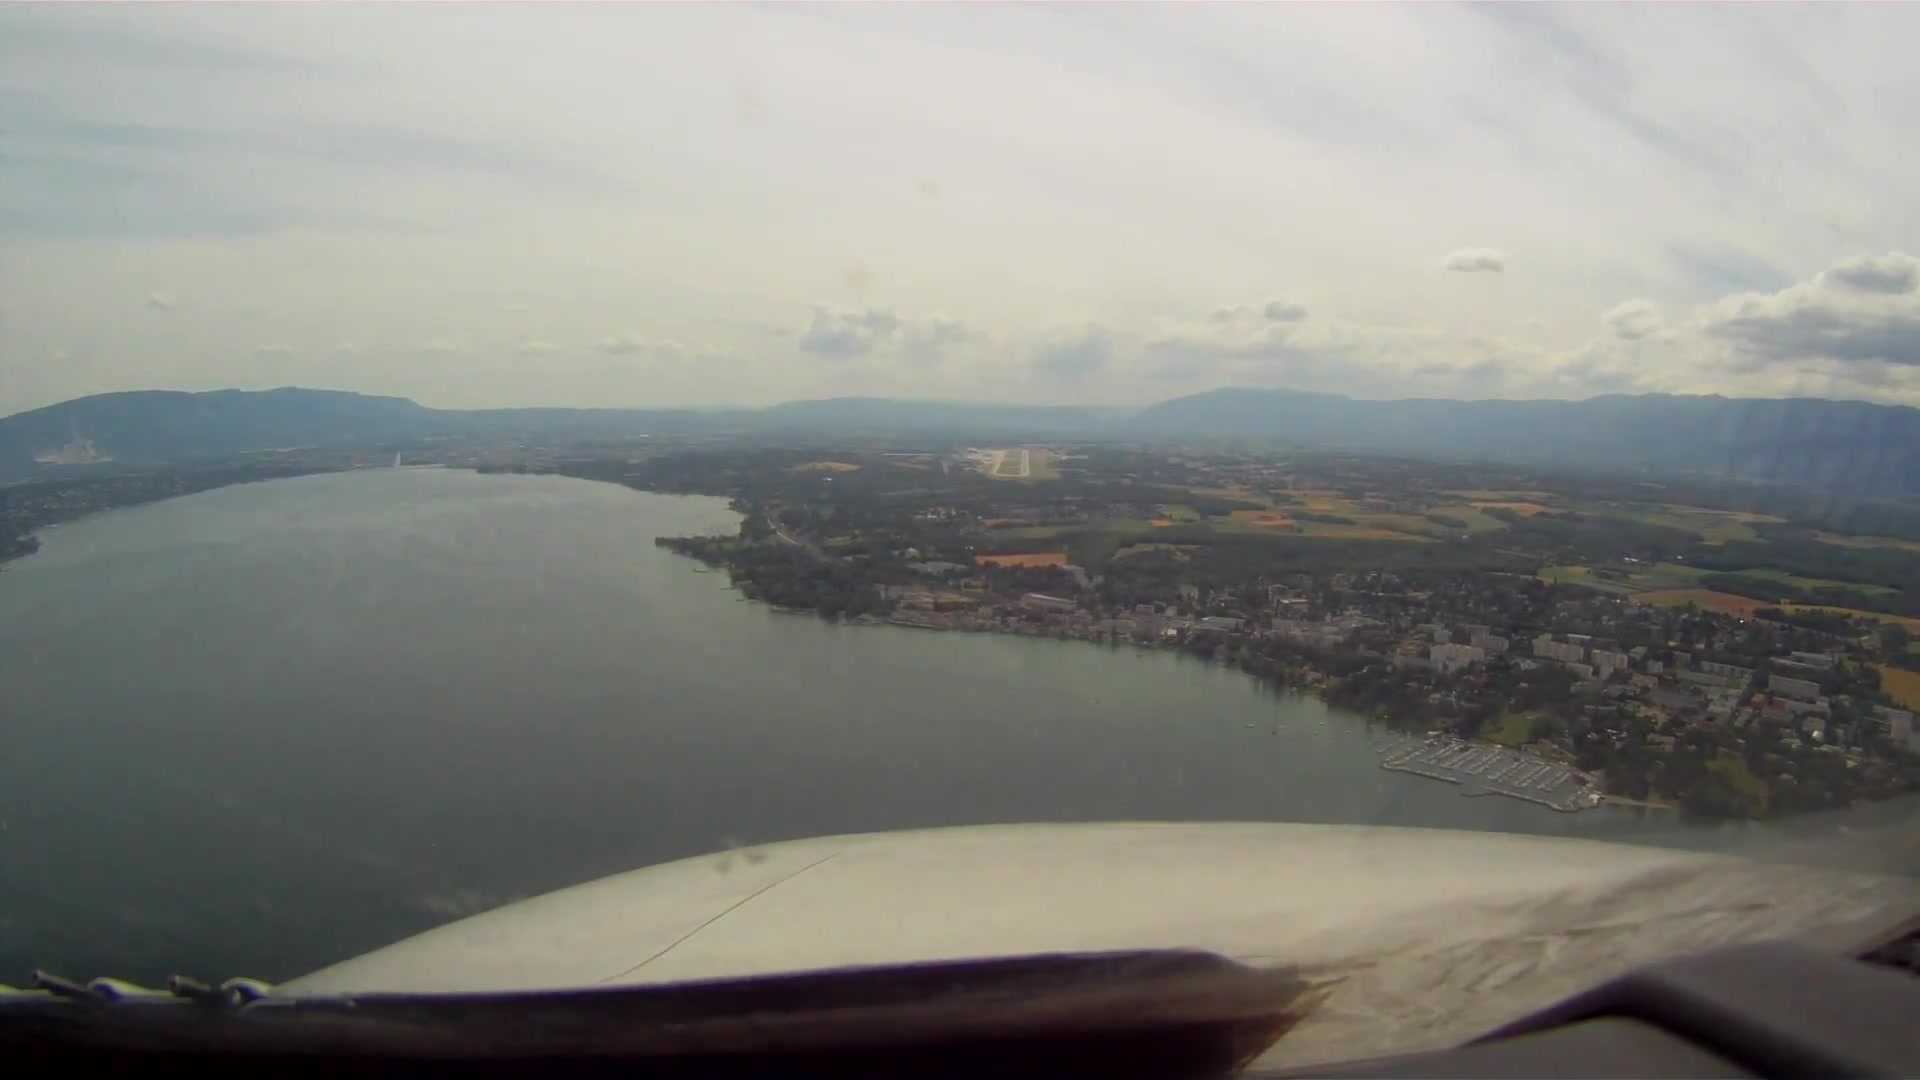runway: (1017, 447, 1033, 479)
